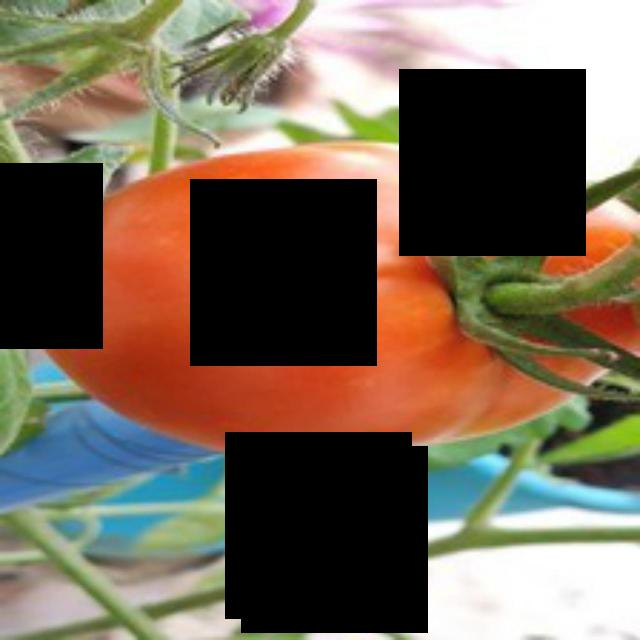tomato: (20, 126, 637, 457)
